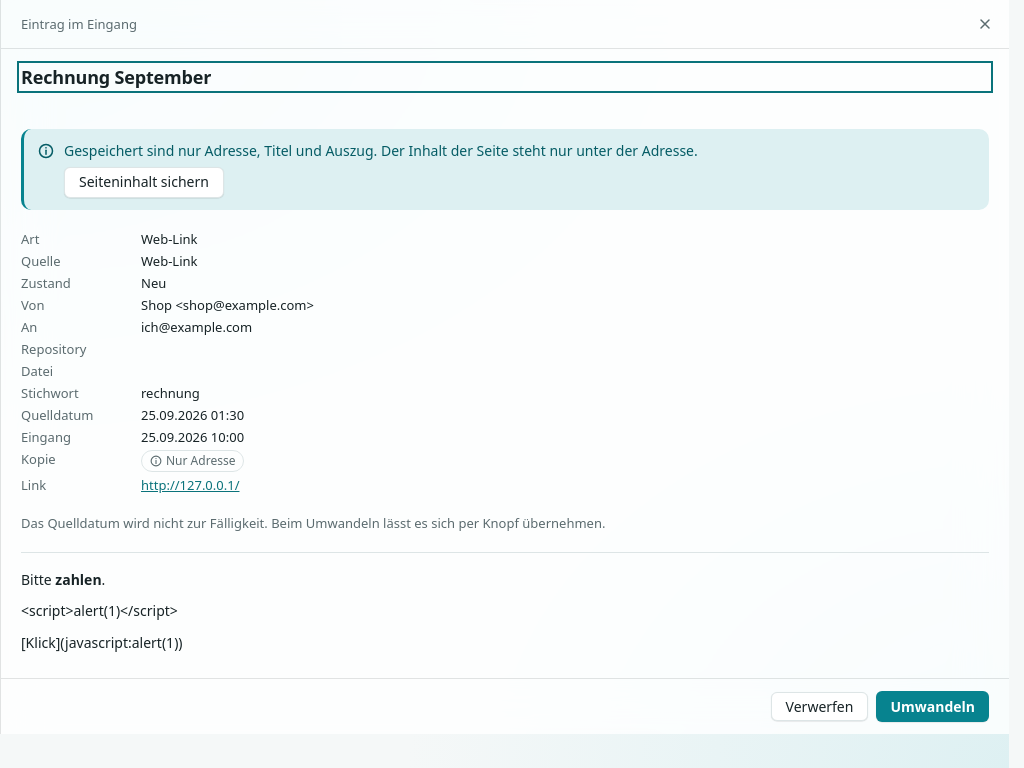
Test case: inbox panel: copy and linking (ADR-0031) › names why a page was not saved
This screenshot has width=1024, height=768.
Expected: the heading "Rechnung September" is shown, [21,65,211,89]
Click the button "Seiteninhalt sichern": (144, 182) [64,167,224,198]
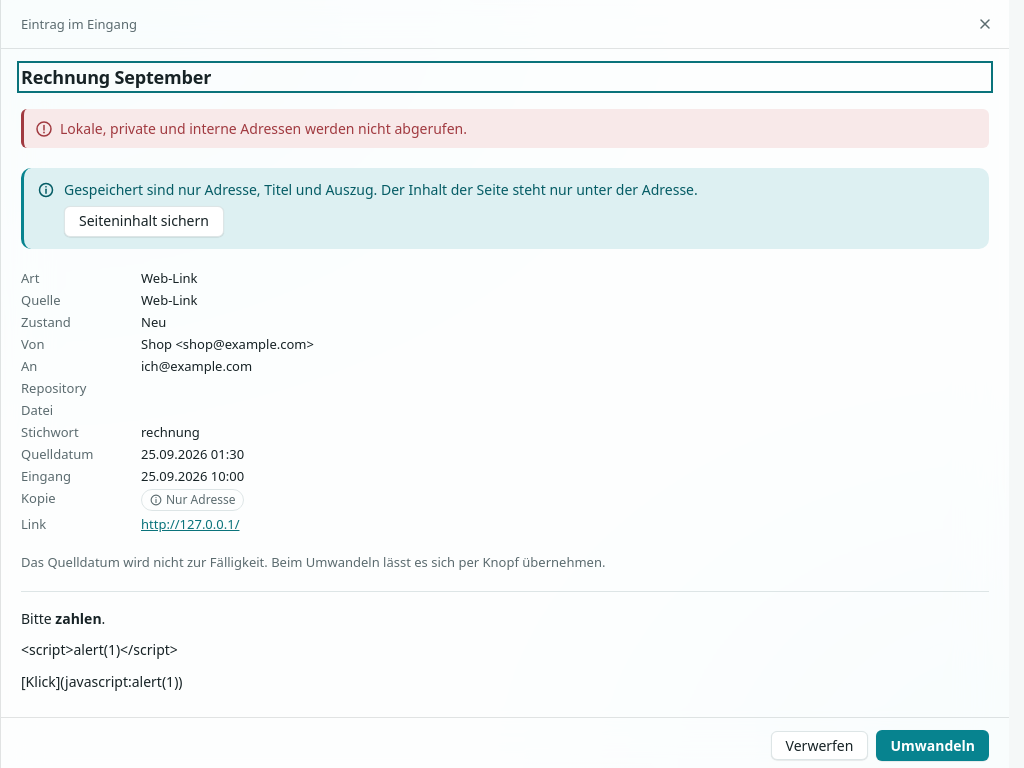
Expected: the text "Nur Adresse" is shown, [166,490,235,510]
Now the text "Lokale, private und interne Adressen werden nicht abgerufen." is shown, box [60,119,467,138]
